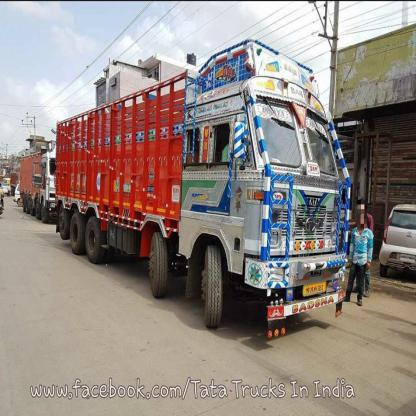car: (378, 198, 415, 283)
truck: (53, 46, 347, 334), (15, 138, 59, 224)
